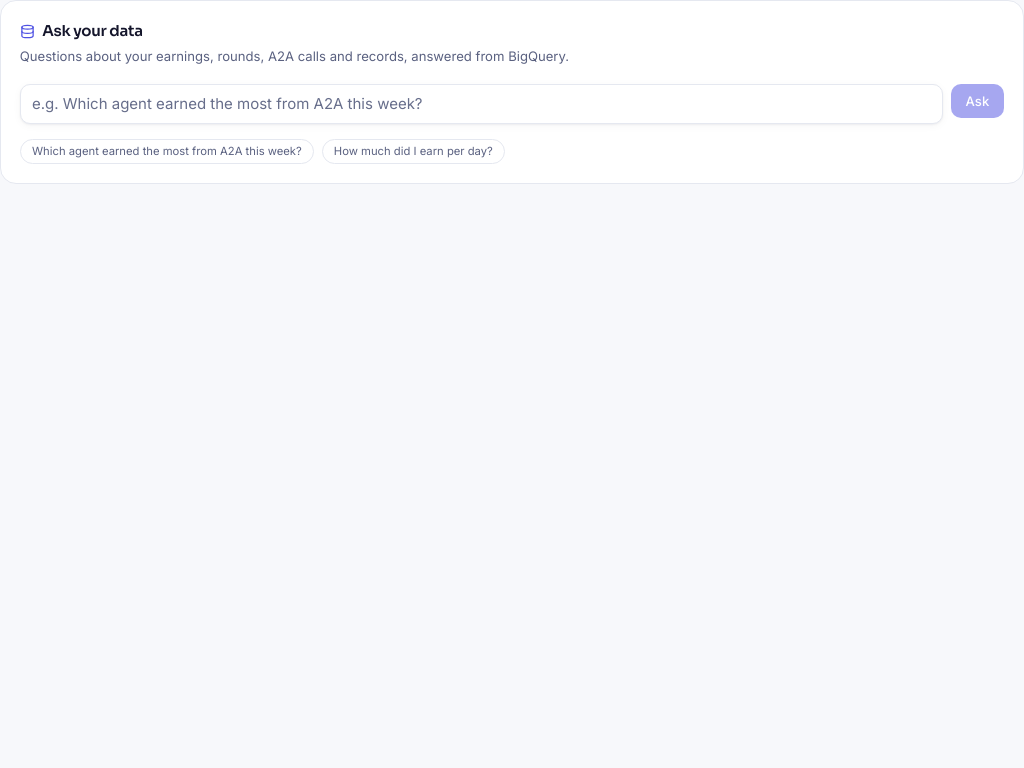
Test: AskDataCard › asks a suggested question and shows answer, chart, table and SQL
The width and height of the screenshot is (1024, 768).
Click the button "Which agent earned the most from A2A this week?".
click(167, 152)  # box top-left (20, 139), bottom-right (314, 164)
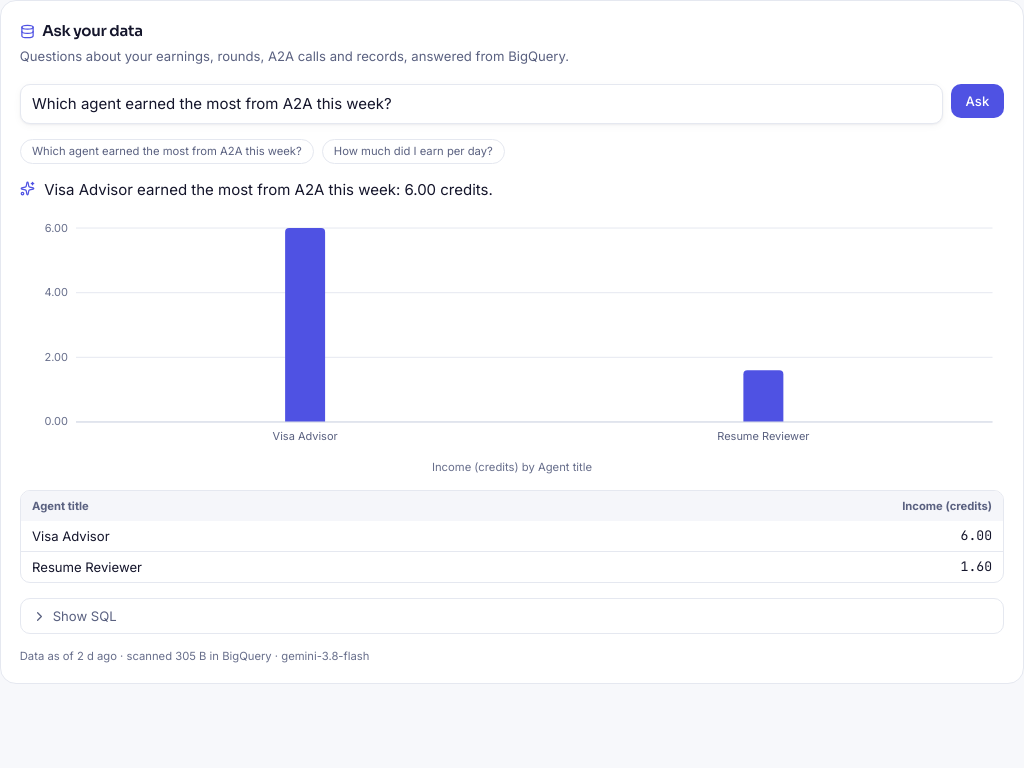
Expected: the text "Visa Advisor earned the most from A2A this week: 6.00 credits." is shown, top-left (44, 179), bottom-right (493, 201)
Expected: the number of rows with test id "analytics-row" is 2, top-left (21, 521), bottom-right (1003, 552); top-left (21, 552), bottom-right (1003, 582)
Expected: the column heading "Income (credits)" is shown, top-left (552, 491), bottom-right (1003, 521)
